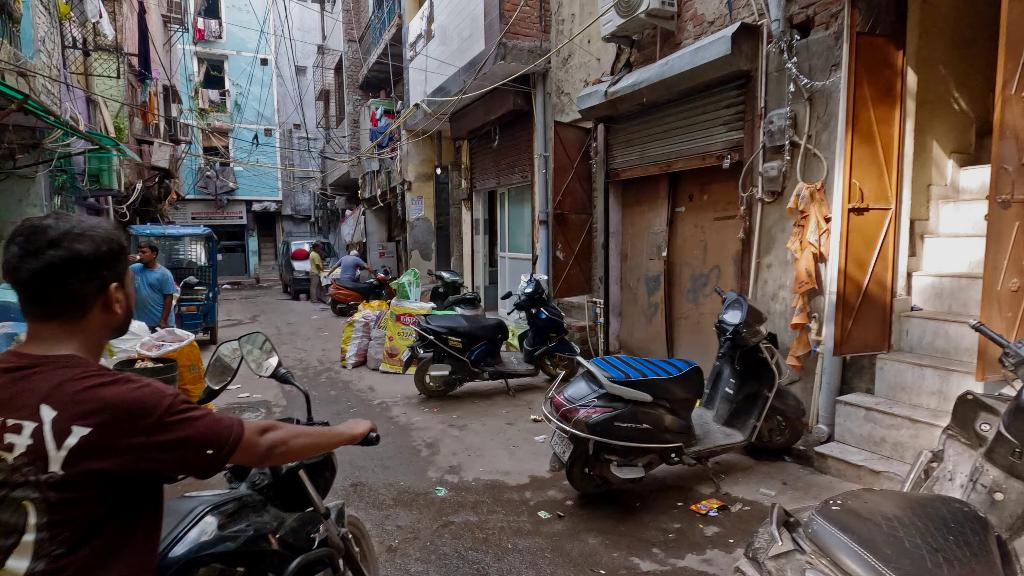garbage: (689, 496, 729, 514)
